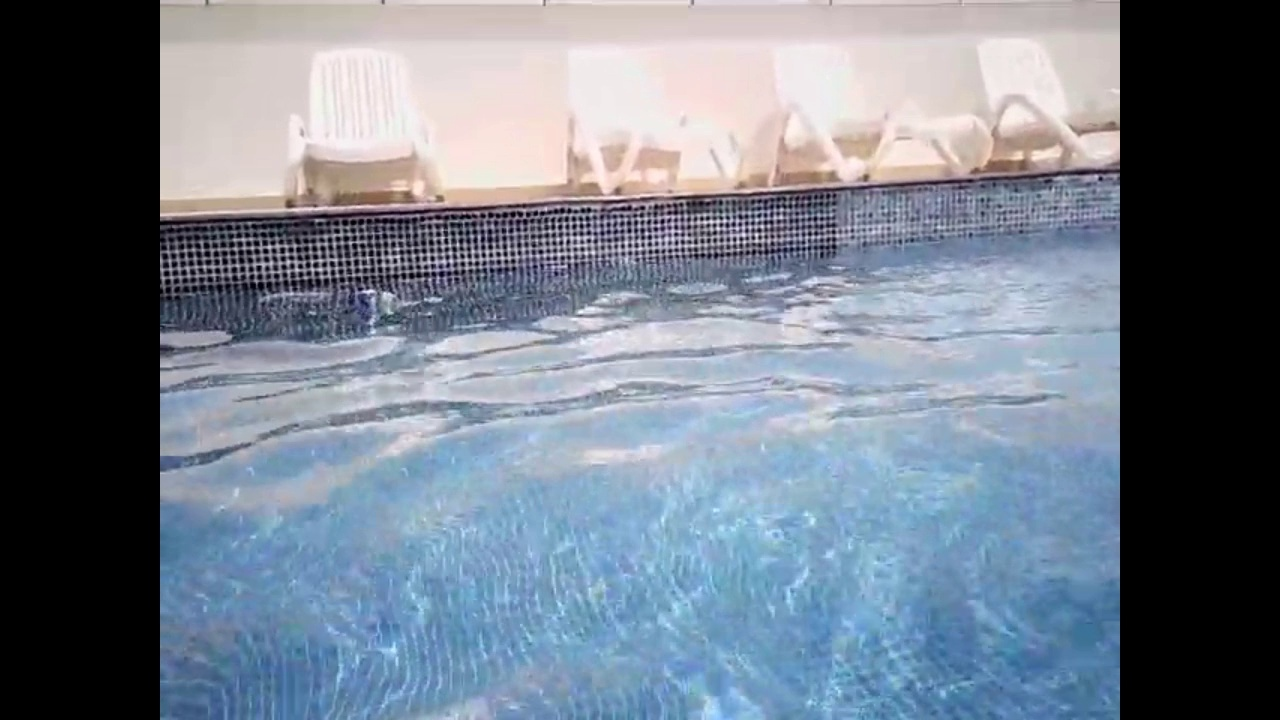debris: (359, 279, 395, 314), (356, 284, 378, 311)
